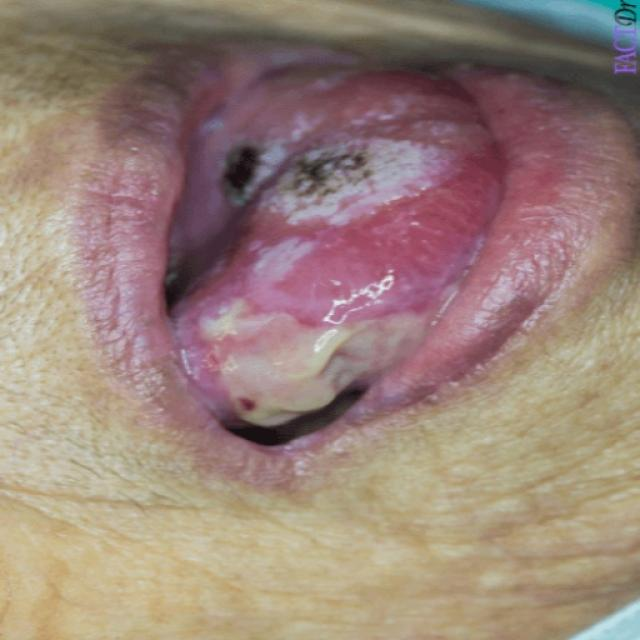cancer-detection: (187, 278, 460, 427), (219, 123, 456, 226)
processing_area: (162, 60, 514, 447)
